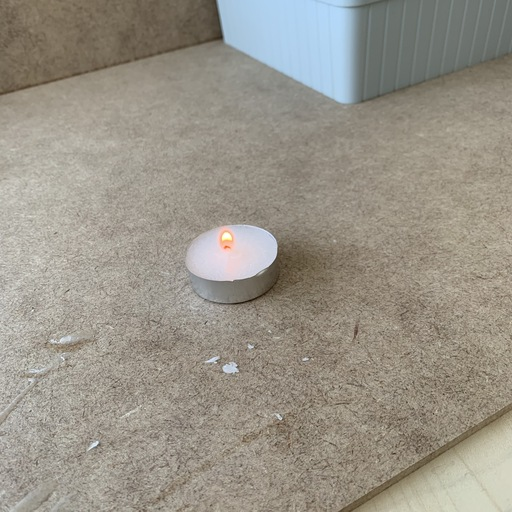fire: (215, 229, 239, 258)
